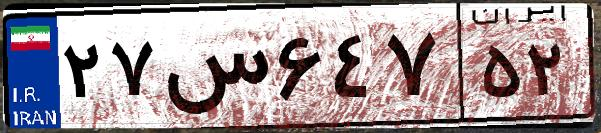2: (57, 26, 110, 100), (525, 38, 570, 115)
4: (330, 28, 385, 110)
5: (475, 38, 525, 113)
6: (270, 28, 330, 110)
7: (385, 28, 445, 110), (110, 28, 158, 98)
س: (158, 20, 270, 120)
